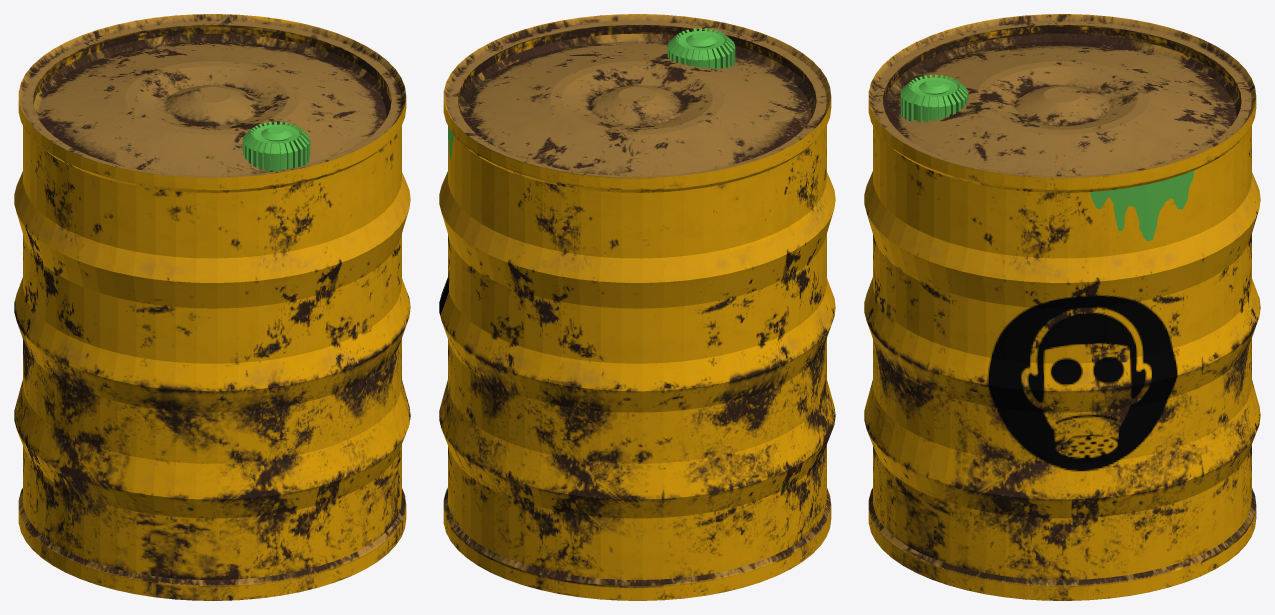
File: barrel.fbx
3 views of the same model, side by side, from view 1: azimuth 30°, elevation 25°; view 2: azimuth 150°, elevation 25°; view 3: azimuth 270°, elevation 25° (orthographic).
Visible parts, largest first — view 1: Cylinder, Cylinder.001; view 2: Cylinder, Cylinder.001; view 3: Cylinder, Cylinder.001.
Boxes of the visible parts, x1,y1,x2,y2 form: Cylinder: [14, 14, 410, 600]; Cylinder.001: [242, 121, 310, 172]; Cylinder: [439, 14, 835, 600]; Cylinder.001: [667, 28, 735, 68]; Cylinder: [864, 14, 1260, 600]; Cylinder.001: [900, 75, 968, 122].
Size of the model in its own units: 108 by 108 by 131.
